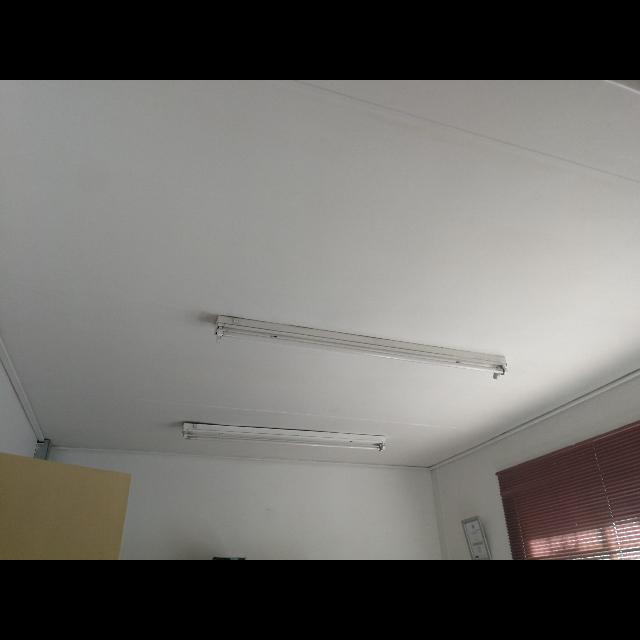Straight-Tube-Fluorescent-Lamp: (188, 296, 520, 388), (167, 410, 401, 466)
